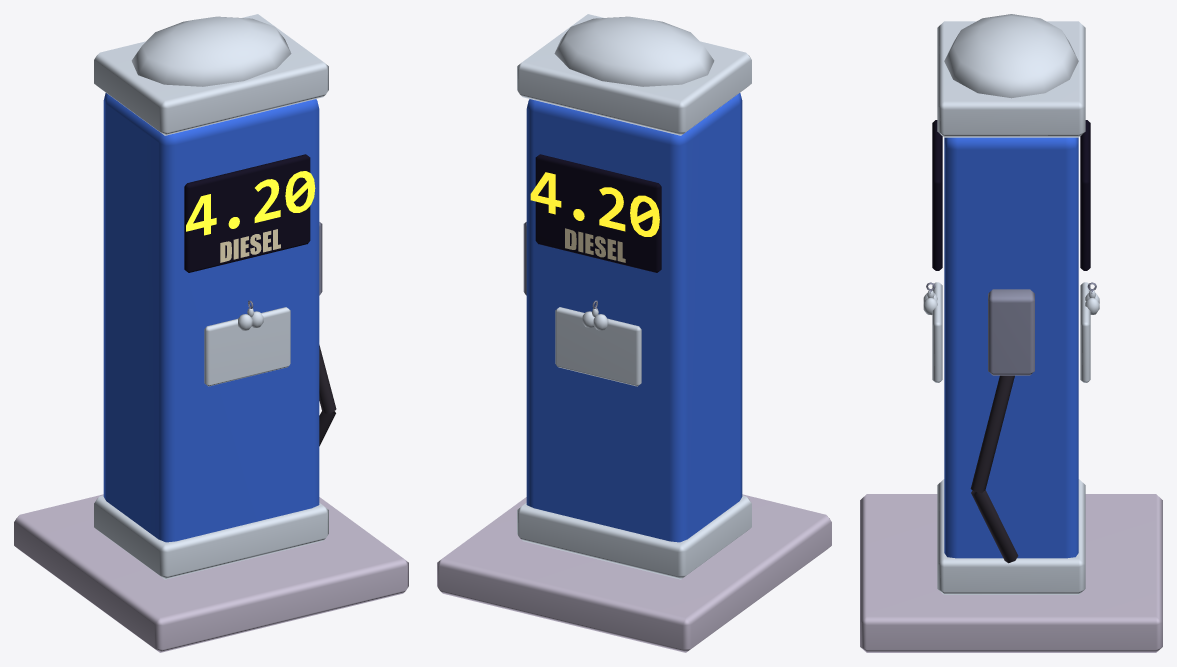
The model's file is gas_pump.glb.
3 views of the same model, side by side, from view 1: azimuth 30°, elevation 25°; view 2: azimuth 150°, elevation 25°; view 3: azimuth 270°, elevation 25° (orthographic). The views are drawn at different scales.
Parts seen in each view (by area): view 1: Pump; view 2: Pump; view 3: Pump.
Boxes of the visible parts, <box> form: Pump: <box>14,14,408,652</box>; Pump: <box>437,14,831,652</box>; Pump: <box>860,14,1162,652</box>.
Size of the model in its own units: 0.9 by 1.84 by 0.9.
